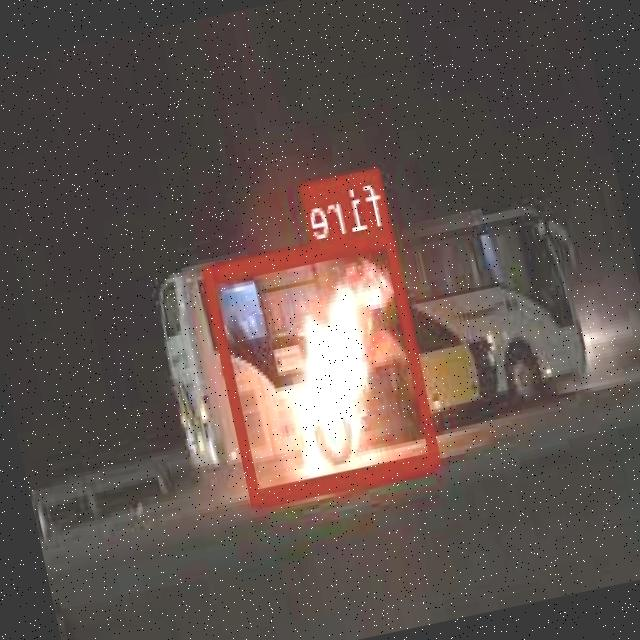fire: (203, 227, 442, 502)
